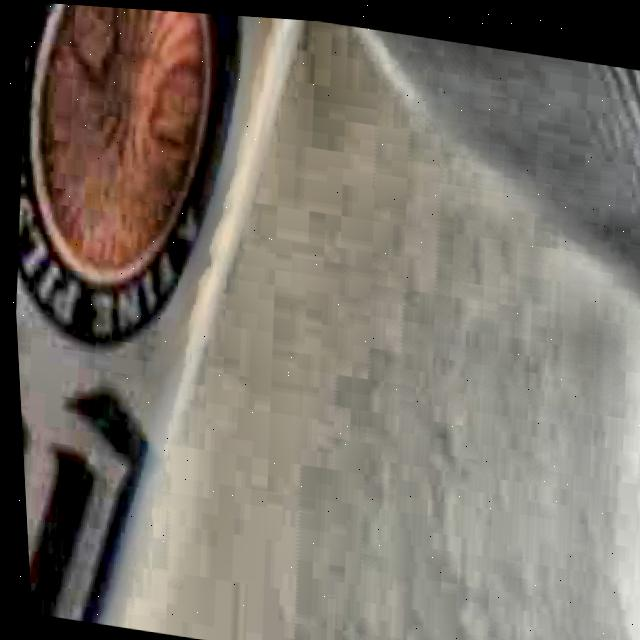metal: (0, 0, 433, 640)
